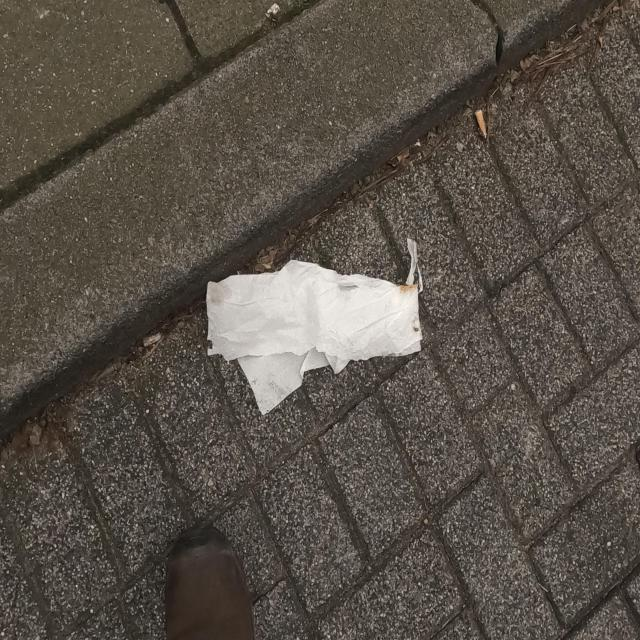Paper: (204, 237, 425, 419)
